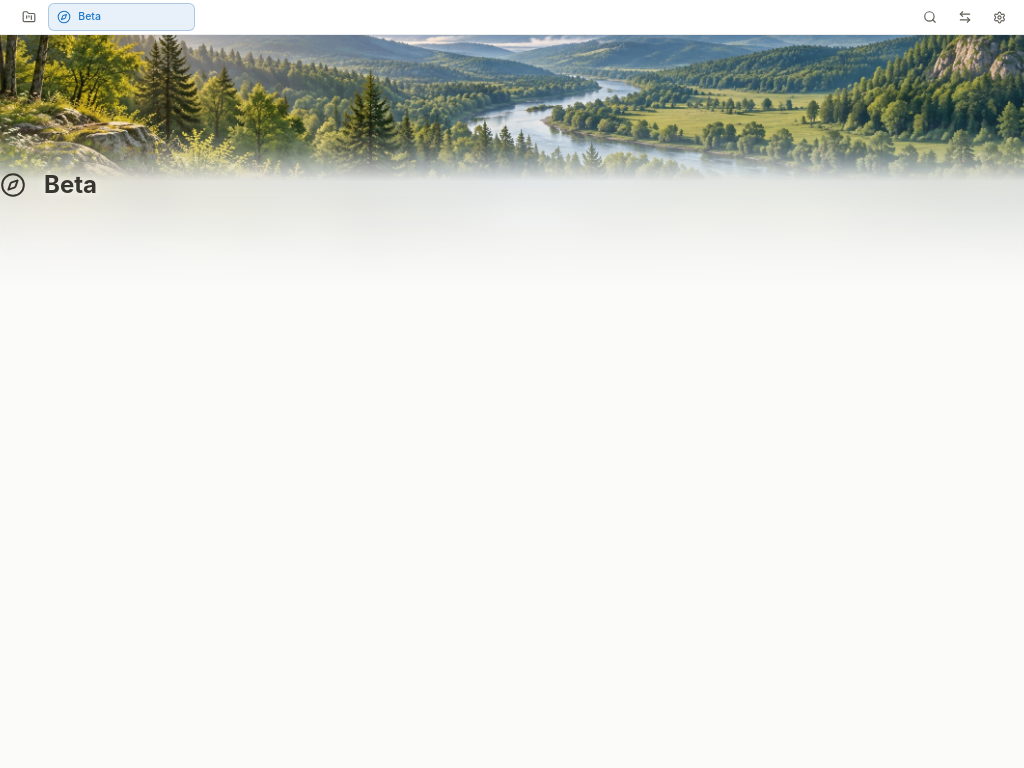
Test: edits the project icon directly and updates the tab without changing its cover
Check: the 1st icon with class "lucide-compass" is shown, box [57,10,71,24]
Click the button named "修改项目图标".
click(16, 185)  # box [0,169,32,201]
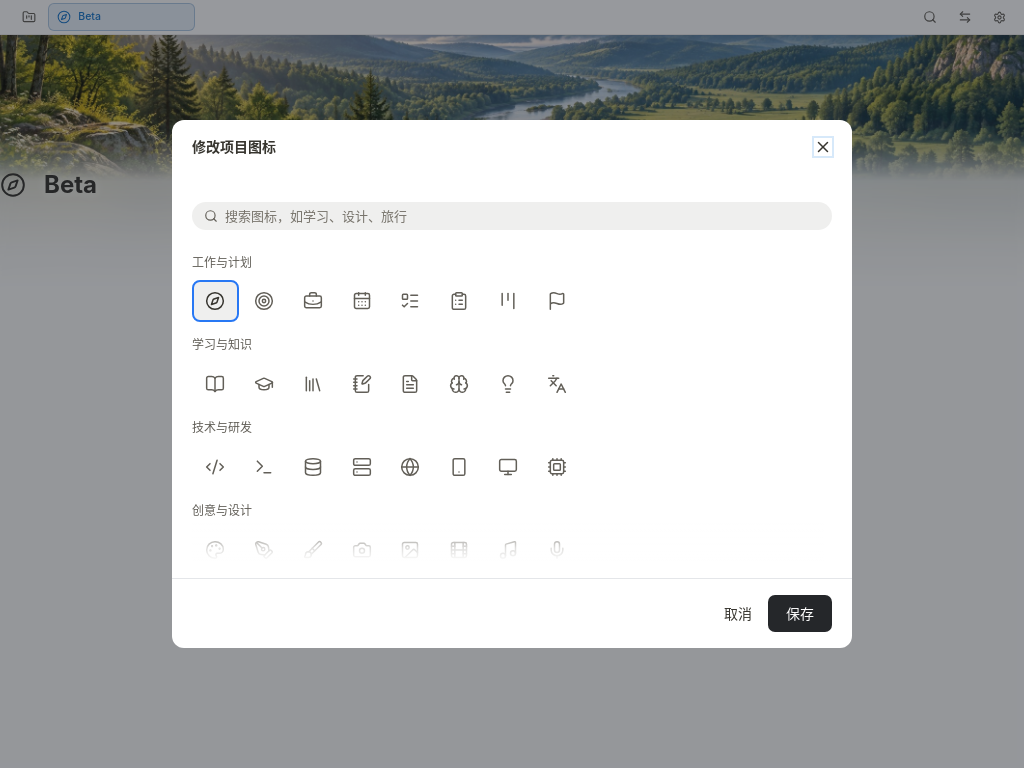
Click the button named "目标".
click(264, 301)  # box [243,282,286,320]
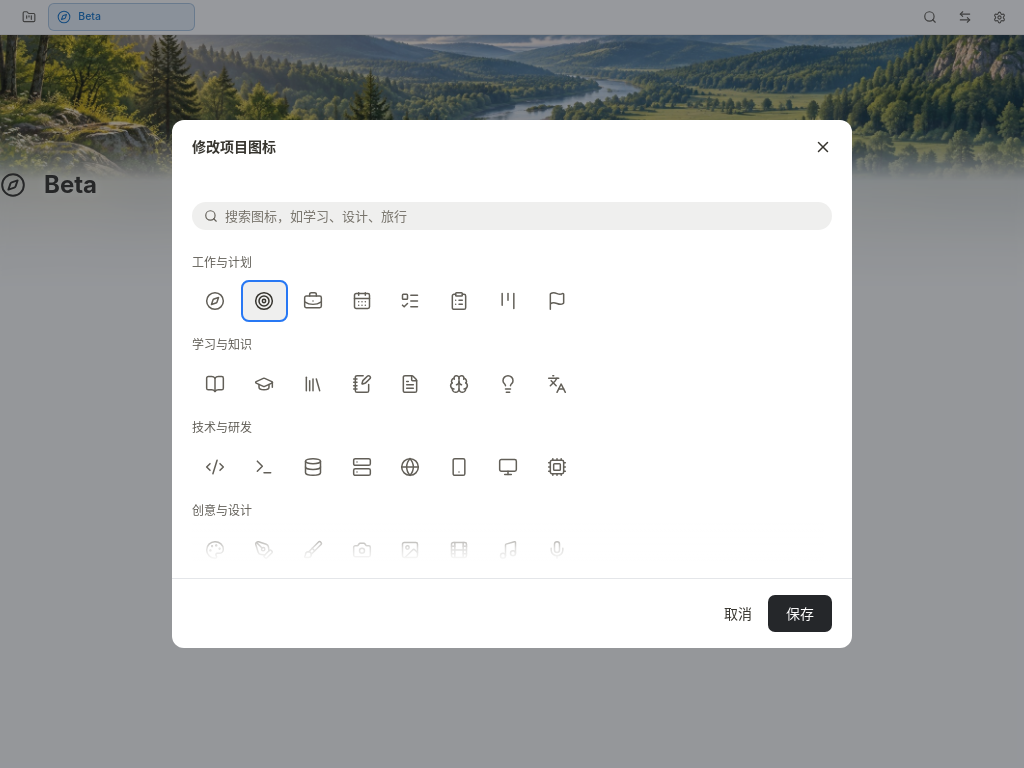
Click the button "保存".
click(800, 614)  # box [768,594,832,632]
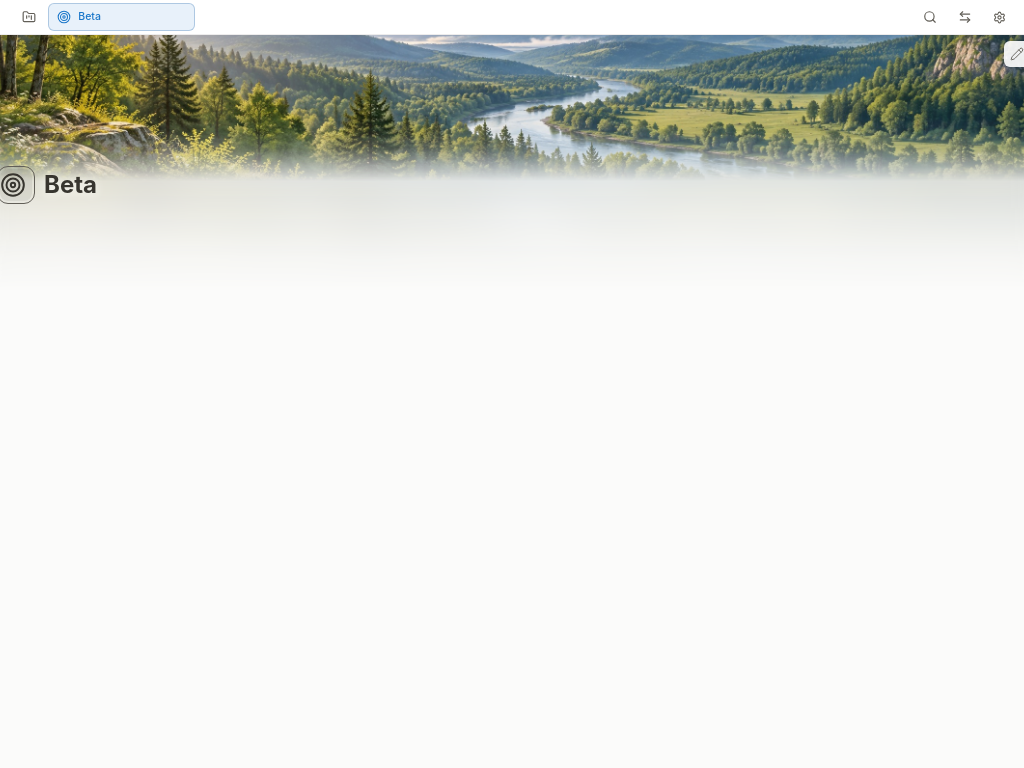
Check: the 1st icon with class "lucide-target" is shown, box [57,10,71,24]
Check: the dialog is gone
